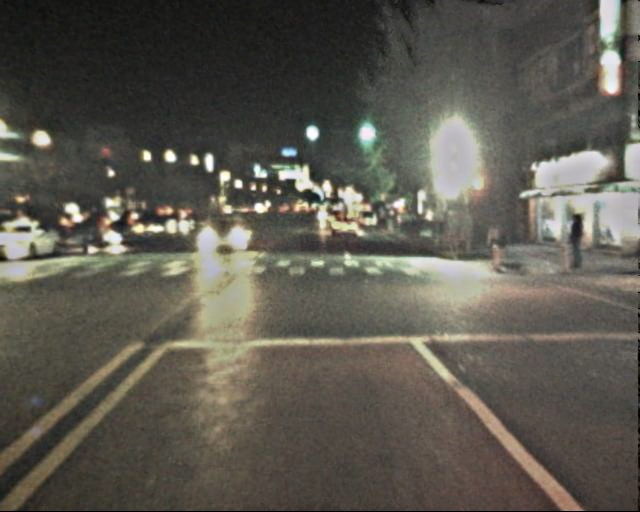person: (564, 210, 589, 271), (483, 217, 507, 272)
